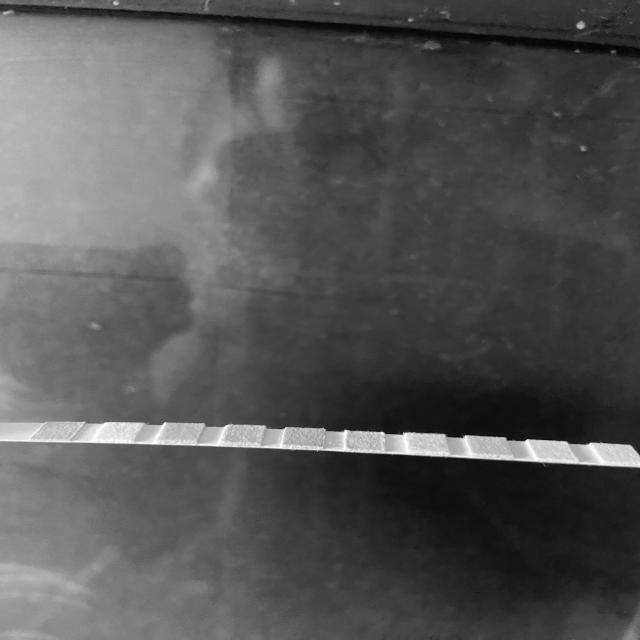Bilirubin: (106, 423, 132, 440)
Blood: (287, 428, 323, 446)
Glucose: (46, 422, 69, 439)
Ketone: (167, 424, 196, 441)
Leukocytes: (608, 446, 632, 463)
Nitrite: (537, 442, 567, 458)
Protein: (407, 434, 445, 451)
SpGravity: (228, 426, 260, 445)
Urobilinogen: (473, 437, 506, 454)
background: (0, 0, 640, 640)
pH: (347, 432, 383, 448)
strip: (0, 421, 640, 467)
